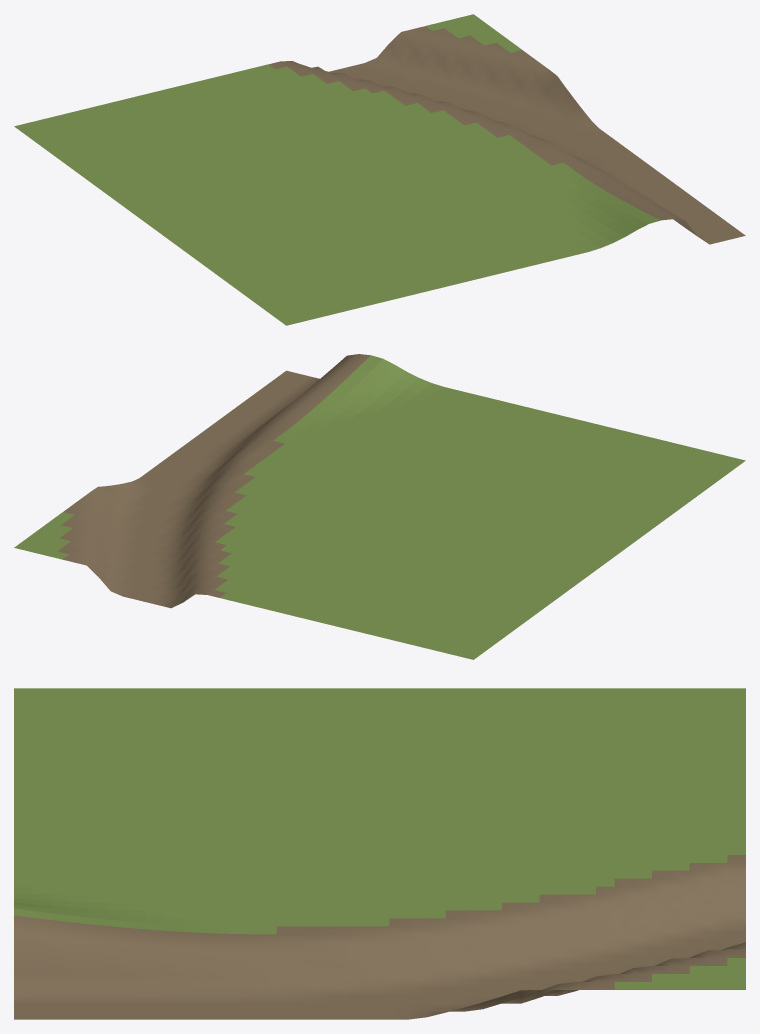
File: region_1_-1.glb
3 renders of one model, top to bottom at view 1: azimuth 30°, elevation 25°; view 2: azimuth 150°, elevation 25°; view 3: azimuth 270°, elevation 25°, orthographic. The views are drawn at different scales.
Visible parts, largest first — view 1: OD_Meadow.015, OD_Ground.015; view 2: OD_Meadow.015, OD_Ground.015; view 3: OD_Meadow.015, OD_Ground.015.
Boxes of the visible parts, <box> form: OD_Meadow.015: <box>14,14,660,325</box>; OD_Ground.015: <box>268,26,745,244</box>; OD_Meadow.015: <box>14,355,745,659</box>; OD_Ground.015: <box>57,354,473,659</box>; OD_Meadow.015: <box>14,688,745,989</box>; OD_Ground.015: <box>14,855,745,1019</box>.
Bounding box in the file's own units: 31.52 × 2.37 × 32.35.
